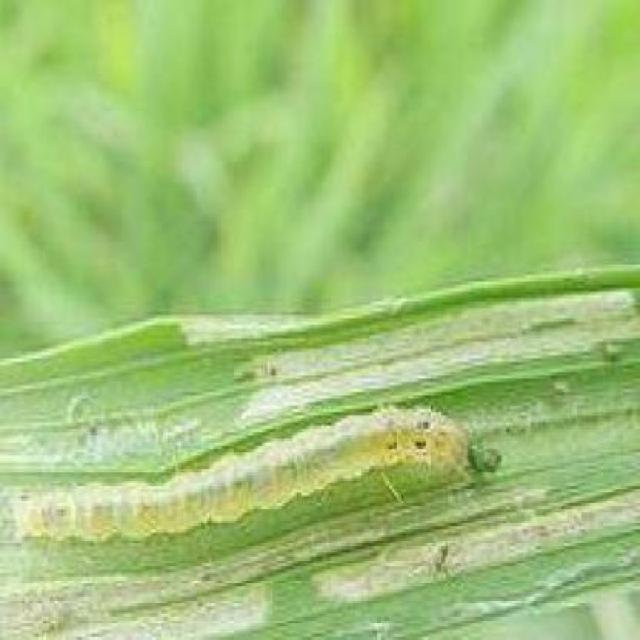leaf-folder: (6, 396, 509, 559)
